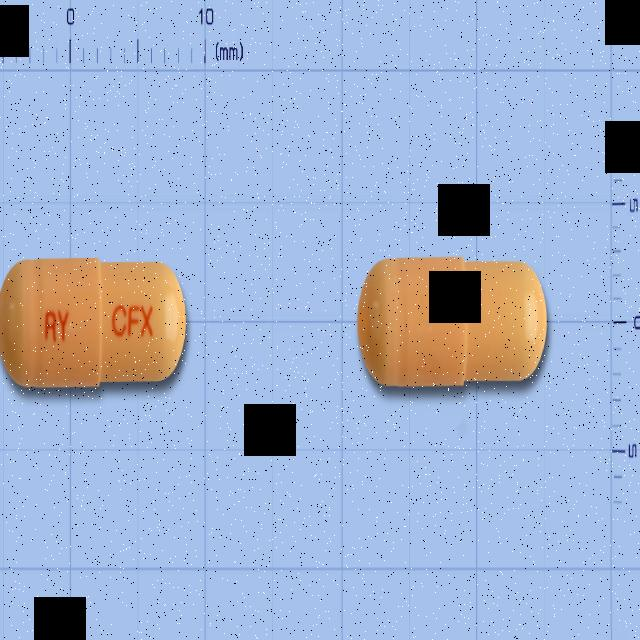Cefixime Cap- Reyon: (0, 245, 192, 397)
